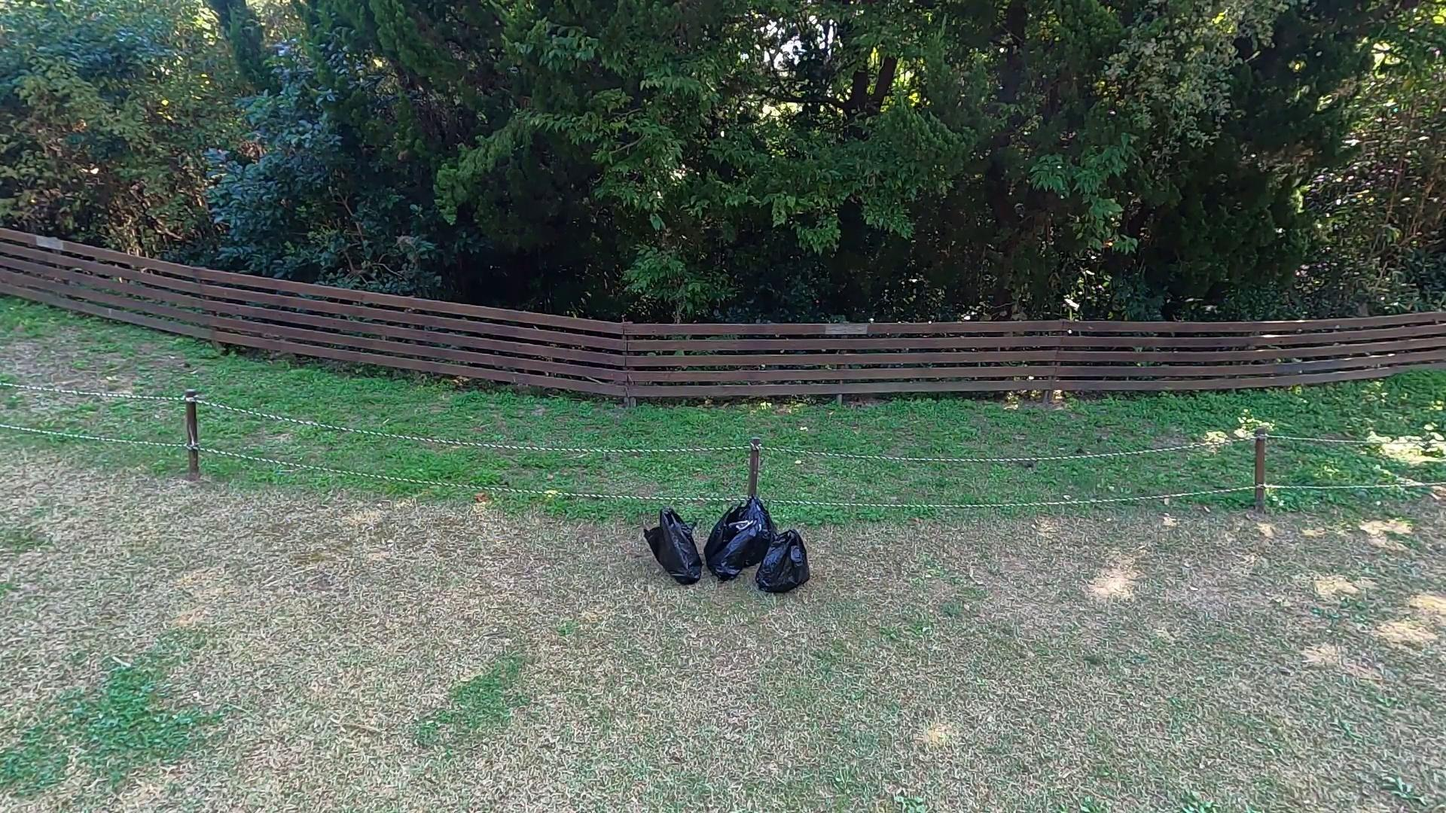trash: (646, 504, 705, 586), (717, 494, 778, 573), (705, 501, 760, 582), (752, 528, 814, 595)
